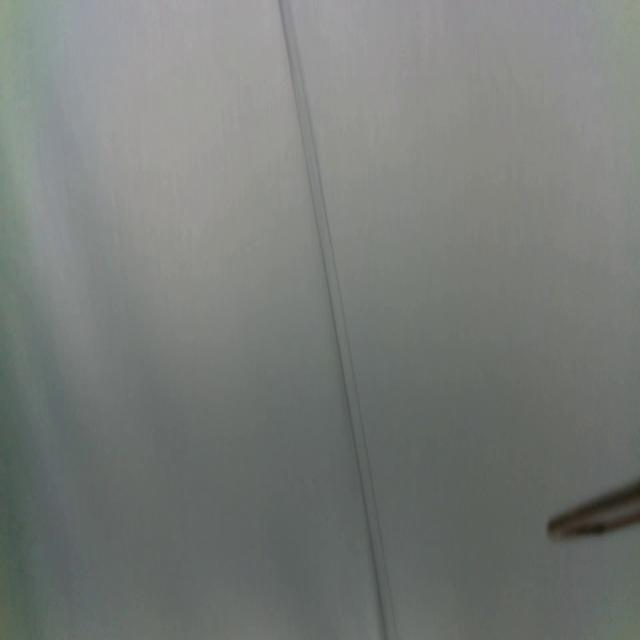crease: (278, 0, 397, 640)
